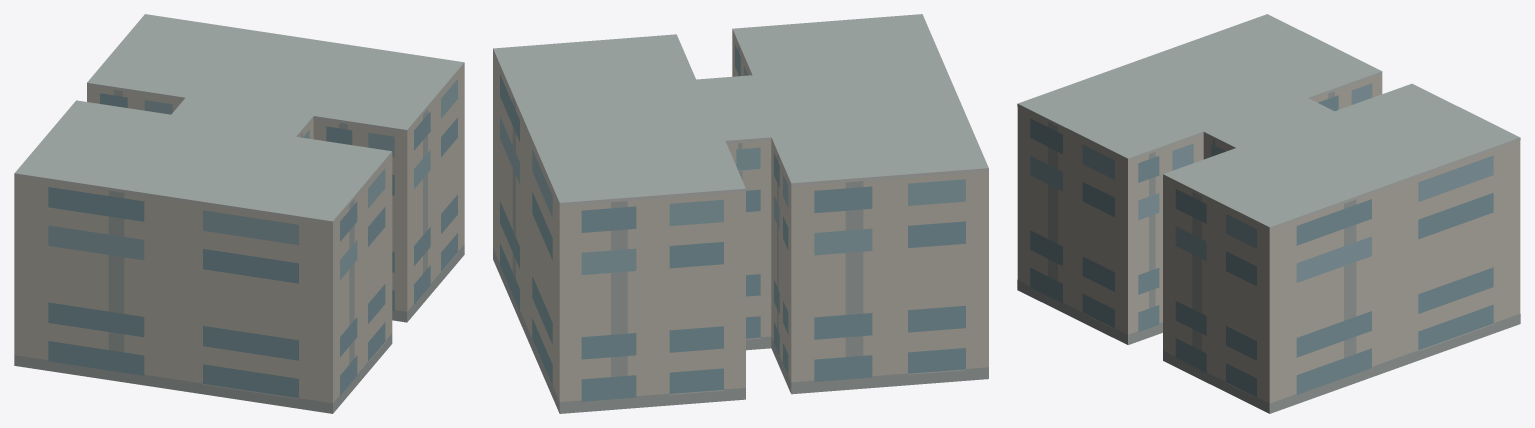
The model's file is residential-d3438074-75bd-4a9a-ab98-a5c6c9b11487.glb.
The picture shows the model from 3 angles, left to right: view 1: azimuth 30°, elevation 25°; view 2: azimuth 150°, elevation 25°; view 3: azimuth 270°, elevation 25°; orthographic projection. The views are drawn at different scales.
Visible parts, largest first — view 1: residential-d3438074-75bd-4a9a-ab98-a5c6c9b11487.tmp; view 2: residential-d3438074-75bd-4a9a-ab98-a5c6c9b11487.tmp; view 3: residential-d3438074-75bd-4a9a-ab98-a5c6c9b11487.tmp.
Boxes of the visible parts, bbox=[...] form: residential-d3438074-75bd-4a9a-ab98-a5c6c9b11487.tmp: bbox=[14, 14, 464, 413]; residential-d3438074-75bd-4a9a-ab98-a5c6c9b11487.tmp: bbox=[493, 14, 988, 413]; residential-d3438074-75bd-4a9a-ab98-a5c6c9b11487.tmp: bbox=[1017, 14, 1520, 413].
Size of the model in its own units: 37.42 by 15.25 by 37.27.
